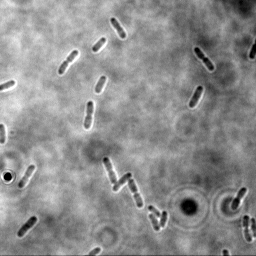Dividing: (56, 48, 81, 76), (192, 44, 216, 73), (126, 177, 144, 210), (17, 163, 37, 189), (101, 156, 118, 186), (109, 16, 129, 41), (229, 186, 248, 212), (81, 100, 96, 131), (241, 214, 253, 244)
Rod: (16, 215, 39, 239), (111, 171, 133, 193), (187, 84, 205, 109), (90, 36, 108, 54), (93, 74, 108, 95), (148, 214, 161, 233), (146, 204, 163, 217), (159, 210, 169, 231), (1, 121, 9, 147)
